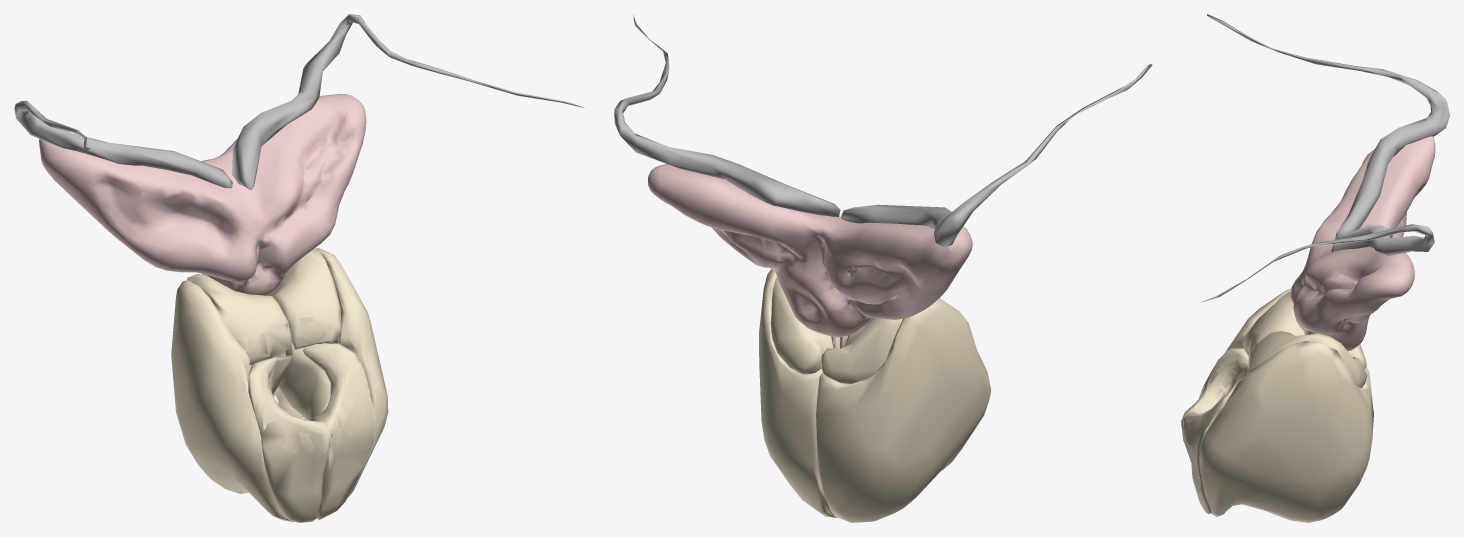
Rendered from vh_m_prostate.glb.
The picture shows the model from 3 angles, left to right: view 1: azimuth 30°, elevation 25°; view 2: azimuth 150°, elevation 25°; view 3: azimuth 270°, elevation 25°; orthographic projection. The views are drawn at different scales.
Visible parts, largest first — view 1: VH_M_seminal_vesicle, VH_M_peripheral_zone_of_prostate_R, VH_M_anterior_fibromuscular_stroma_R, VH_M_anterior_fibromuscular_stroma_L, VH_M_vas_deferens_R, VH_M_base_of_prostate, VH_M_vas_deferens_L, VH_M_central_zone_of_prostate_L, VH_M_peripheral_zone_of_prostate_L, VH_M_central_zone_of_prostate_R, VH_M_transition_zone__of_prostate_L; view 2: VH_M_peripheral_zone_of_prostate_R, VH_M_seminal_vesicle, VH_M_peripheral_zone_of_prostate_L, VH_M_vas_deferens_R, VH_M_vas_deferens_L, VH_M_central_zone_of_prostate_R, VH_M_central_zone_of_prostate_L; view 3: VH_M_peripheral_zone_of_prostate_L, VH_M_seminal_vesicle, VH_M_vas_deferens_L, VH_M_vas_deferens_R, VH_M_central_zone_of_prostate_L, VH_M_central_zone_of_prostate_R, VH_M_anterior_fibromuscular_stroma_L, VH_M_base_of_prostate, VH_M_anterior_fibromuscular_stroma_R, VH_M_peripheral_zone_of_prostate_R.
Part boxes in pixels (x1,y1,x2,y2): VH_M_seminal_vesicle: (39, 94, 366, 295); VH_M_peripheral_zone_of_prostate_R: (171, 280, 294, 521); VH_M_anterior_fibromuscular_stroma_R: (248, 357, 329, 522); VH_M_anterior_fibromuscular_stroma_L: (303, 343, 375, 519); VH_M_vas_deferens_R: (232, 14, 583, 190); VH_M_base_of_prostate: (235, 317, 369, 454); VH_M_vas_deferens_L: (14, 100, 232, 188); VH_M_central_zone_of_prostate_L: (267, 248, 341, 349); VH_M_peripheral_zone_of_prostate_L: (273, 248, 388, 498); VH_M_central_zone_of_prostate_R: (187, 274, 292, 365); VH_M_transition_zone__of_prostate_L: (277, 344, 330, 420); VH_M_peripheral_zone_of_prostate_R: (816, 298, 991, 522); VH_M_seminal_vesicle: (647, 164, 972, 337); VH_M_peripheral_zone_of_prostate_L: (759, 269, 836, 517); VH_M_vas_deferens_R: (614, 14, 840, 216); VH_M_vas_deferens_L: (841, 64, 1152, 247); VH_M_central_zone_of_prostate_R: (820, 317, 902, 383); VH_M_central_zone_of_prostate_L: (770, 277, 847, 374); VH_M_peripheral_zone_of_prostate_L: (1199, 341, 1373, 522); VH_M_seminal_vesicle: (1290, 136, 1435, 350); VH_M_vas_deferens_L: (1207, 14, 1449, 239); VH_M_vas_deferens_R: (1200, 224, 1434, 302); VH_M_central_zone_of_prostate_L: (1243, 331, 1367, 387); VH_M_central_zone_of_prostate_R: (1243, 291, 1366, 369); VH_M_anterior_fibromuscular_stroma_L: (1182, 379, 1242, 513); VH_M_base_of_prostate: (1183, 324, 1257, 446); VH_M_anterior_fibromuscular_stroma_R: (1181, 348, 1248, 441); VH_M_peripheral_zone_of_prostate_R: (1201, 288, 1372, 404).
Bounding box in the file's own units: 0.0828 × 0.0703 × 0.0428.
